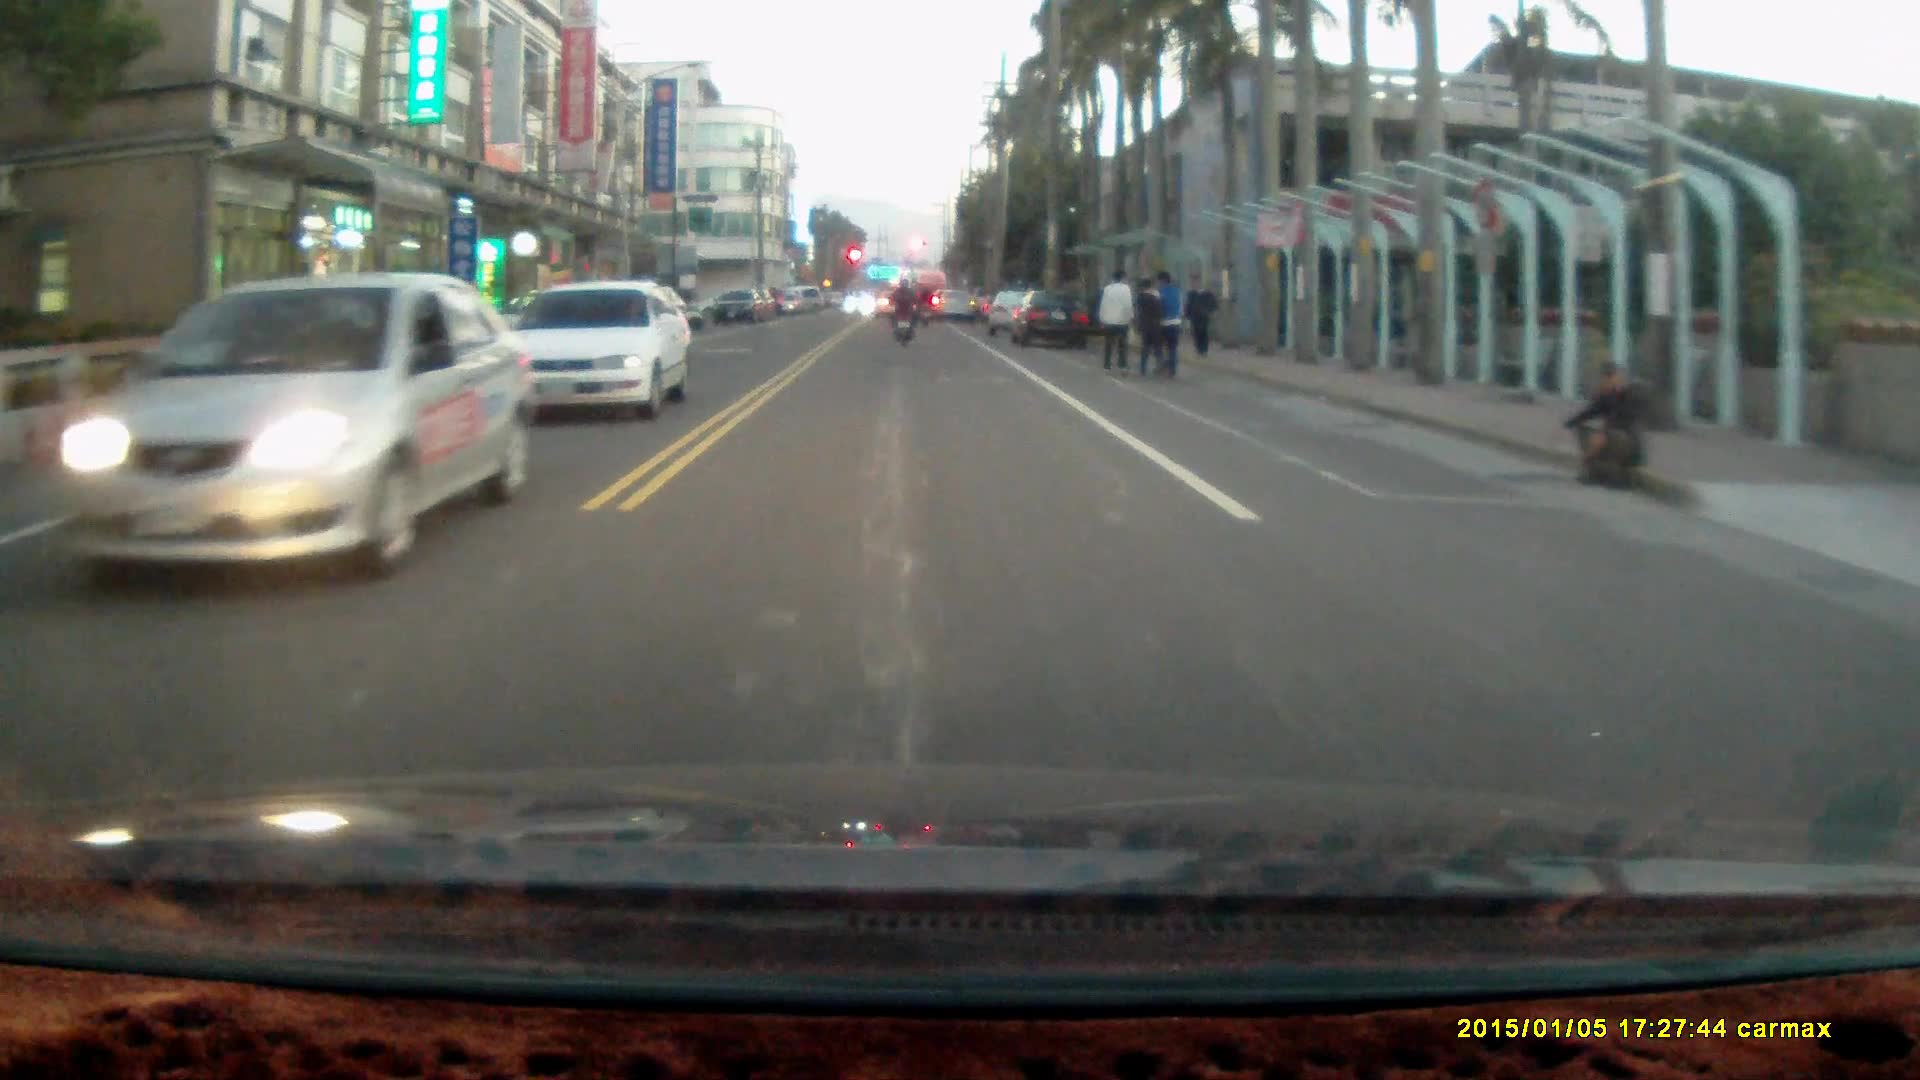pedestrian: (1559, 362, 1650, 491), (1141, 266, 1188, 378), (1095, 264, 1132, 376), (1131, 273, 1168, 376), (1182, 267, 1217, 355)
rider: (885, 275, 917, 345)
vehicle: (22, 271, 521, 582), (505, 279, 696, 418), (1005, 290, 1097, 347)
